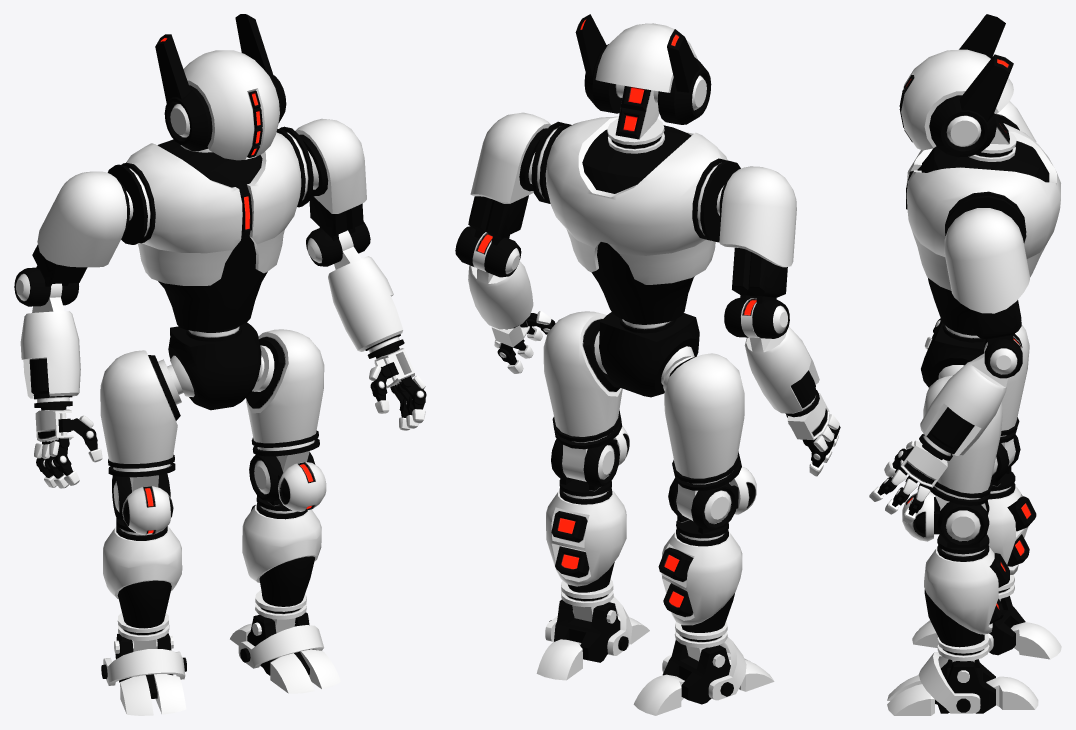
Rendered from Droid.FBX.
3 views of the same model, side by side, from view 1: azimuth 30°, elevation 25°; view 2: azimuth 150°, elevation 25°; view 3: azimuth 270°, elevation 25° (orthographic). The views are drawn at different scales.
Visible parts, largest first — view 1: Droid; view 2: Droid; view 3: Droid.
Boxes of the visible parts, x1,y1,x2,y2 form: Droid: [14, 14, 426, 715]; Droid: [455, 14, 840, 715]; Droid: [869, 14, 1061, 715].
Size of the model in its own units: 112 by 196 by 53.31.
1 material, 1 textured.
